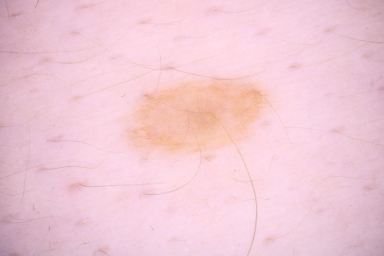nevus: (130, 83, 269, 157)
